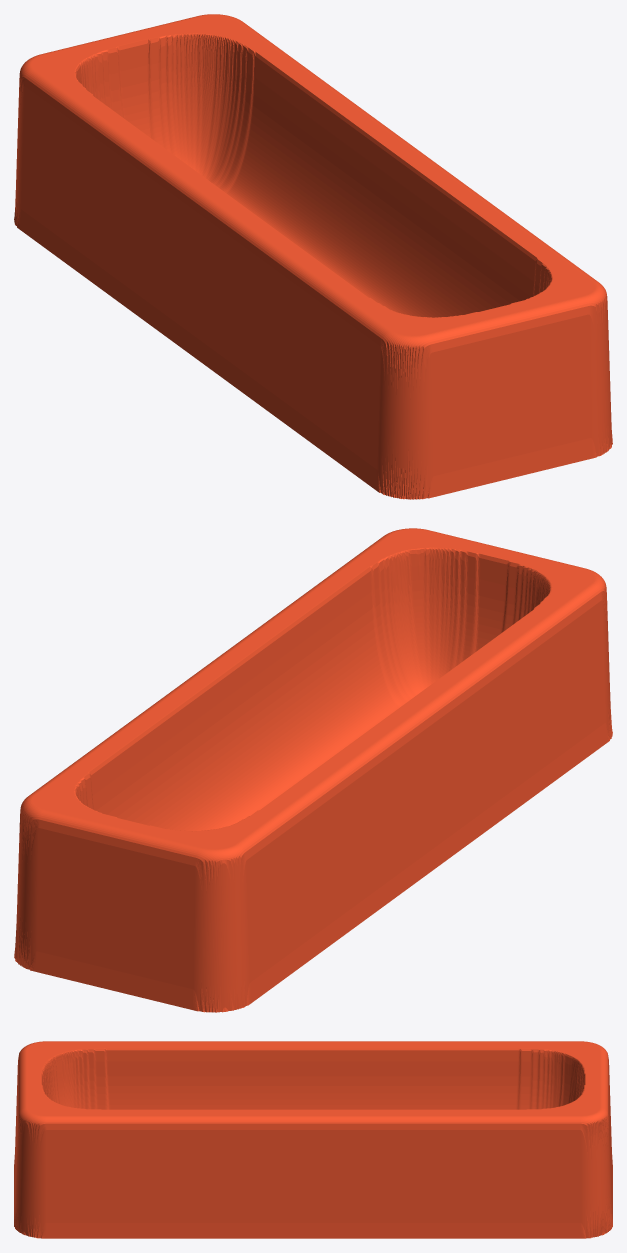
Rendered from mold.glb.
3 views of the same model, one above another, from view 1: azimuth 30°, elevation 25°; view 2: azimuth 150°, elevation 25°; view 3: azimuth 270°, elevation 25° (orthographic). The views are drawn at different scales.
Visible parts, largest first — view 1: geometry_0; view 2: geometry_0; view 3: geometry_0.
Boxes of the visible parts, x1=… form: geometry_0: x1=14, y1=14, x2=612, y2=499; geometry_0: x1=14, y1=528, x2=612, y2=1012; geometry_0: x1=14, y1=1041, x2=612, y2=1238.
Size of the model in its own units: 0.0565 by 0.0365 by 0.1689.
